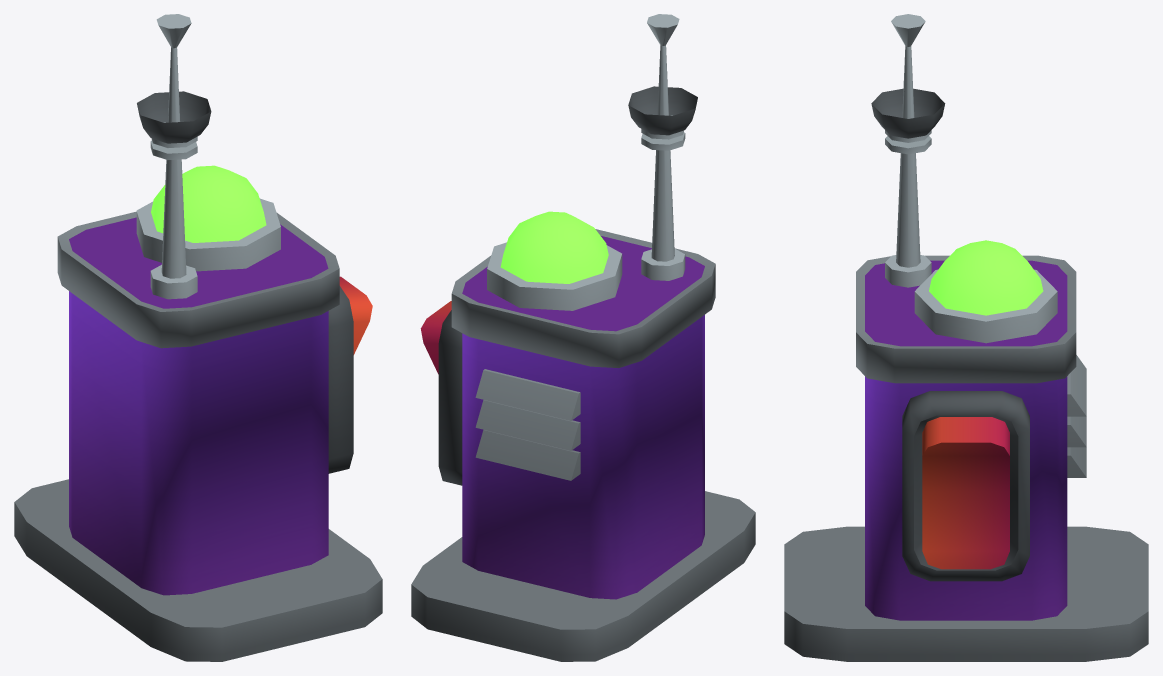
Rendered from ShortSwitch.glb.
3 renders of one model, left to right at view 1: azimuth 30°, elevation 25°; view 2: azimuth 150°, elevation 25°; view 3: azimuth 270°, elevation 25°, orthographic. The views are drawn at different scales.
Visible parts, largest first — view 1: ShortSwitchBase, ClickHandle; view 2: ShortSwitchBase, ClickHandle; view 3: ShortSwitchBase, ClickHandle.
Boxes of the visible parts, bbox=[...] form: ShortSwitchBase: bbox=[14, 14, 382, 661]; ClickHandle: bbox=[339, 276, 372, 354]; ShortSwitchBase: bbox=[411, 14, 755, 661]; ClickHandle: bbox=[420, 301, 451, 374]; ShortSwitchBase: bbox=[784, 14, 1148, 661]; ClickHandle: bbox=[922, 417, 1009, 569].
Bounding box in the file's own units: 1.73 × 3.68 × 2.16.
2 materials, 1 textured.
